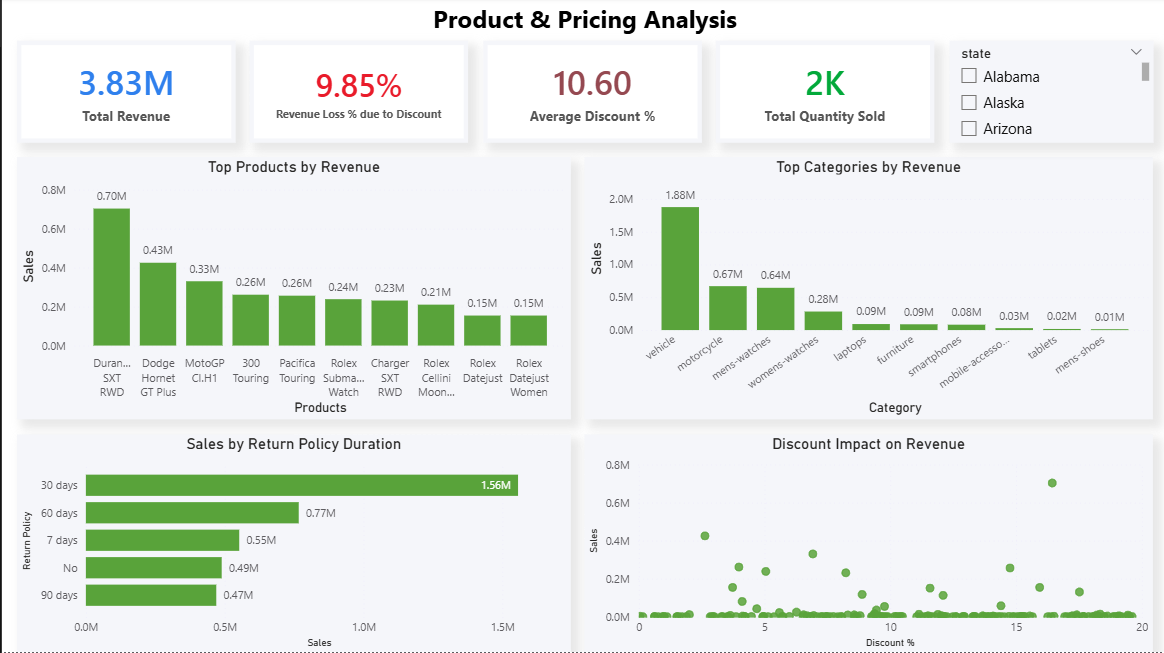

Layout of this report page (visuals, bound fields, positions):
{"tool":"powerbi","page":{"name":"Product Performance Analysis","canvas":[1280,720],"ordinal":1},"visuals":[{"type":"textbox","box":[0,0,1280,48],"z":0},{"type":"cardVisual","fields":{"Data":["ecommerce_db orders.Total Revenue"]},"box":[16,48,240,112],"z":1000},{"type":"cardVisual","fields":{"Data":["ecommerce_db orders.loss percentage"]},"box":[272,48,240,112],"z":2000},{"type":"cardVisual","fields":{"Data":["ecommerce_db orders.Average Discount"]},"box":[528,48,240,112],"z":3000},{"type":"cardVisual","fields":{"Data":["ecommerce_db orders.Total Quantity Sold"]},"box":[784,48,240,112],"z":4000},{"type":"clusteredColumnChart","title":"Top Products by Revenue","fields":{"Category":["ecommerce_db orders.product_name"],"Y":["ecommerce_db orders.Total Revenue"]},"box":[16,176,608,288],"z":5000},{"type":"clusteredColumnChart","title":"Top Categories by Revenue","fields":{"Category":["ecommerce_db products.category"],"Y":["ecommerce_db orders.Total Revenue"]},"box":[640,176,624,288],"z":6000},{"type":"clusteredBarChart","title":"Sales by Return Policy Duration","fields":{"Category":["ecommerce_db products.return_policy"],"Y":["ecommerce_db orders.Total Revenue"]},"box":[16,480,608,240],"z":7000},{"type":"slicer","fields":{"Values":["ecommerce_db customers.state"]},"box":[1040,48,224,112],"z":8000},{"type":"scatterChart","title":"Discount Impact on Revenue","fields":{"X":["ecommerce_db orders.discount_percentage"],"Y":["ecommerce_db orders.Total Revenue"]},"box":[640,480,624,240],"z":9000}]}

Visuals, with their boxes in screenshot pixels (x1, y1, x2, y2), scaled from the page's 1280x720 canvas onto the 1164x653 screenshot:
textbox: (0, 0, 1163, 44)
cardVisual - ecommerce_db orders.Total Revenue: (15, 44, 233, 145)
cardVisual - ecommerce_db orders.loss percentage: (247, 44, 466, 145)
cardVisual - ecommerce_db orders.Average Discount: (480, 44, 698, 145)
cardVisual - ecommerce_db orders.Total Quantity Sold: (713, 44, 931, 145)
"Top Products by Revenue" clusteredColumnChart: (15, 160, 567, 421)
"Top Categories by Revenue" clusteredColumnChart: (582, 160, 1149, 421)
"Sales by Return Policy Duration" clusteredBarChart: (15, 435, 567, 652)
slicer - ecommerce_db customers.state: (946, 44, 1149, 145)
"Discount Impact on Revenue" scatterChart: (582, 435, 1149, 652)
